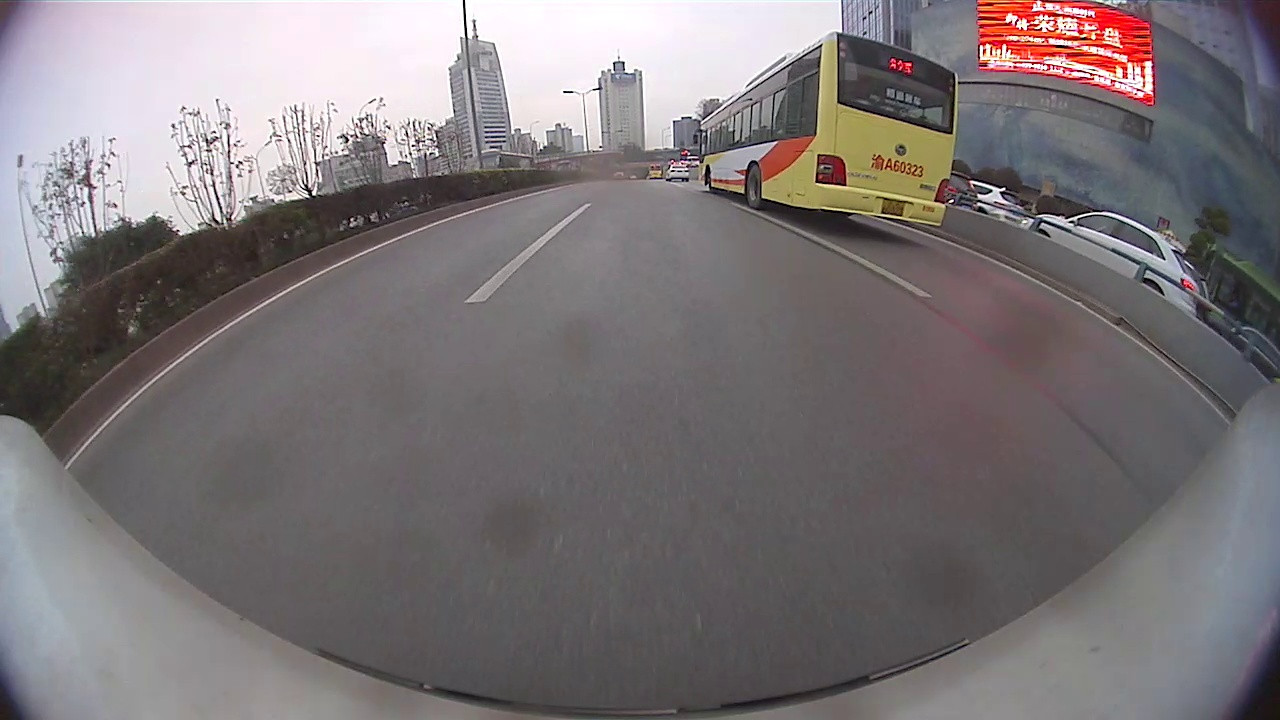bus: (690, 27, 962, 231)
car: (1019, 209, 1201, 321), (1202, 306, 1279, 383)
rear: (745, 159, 763, 211)
